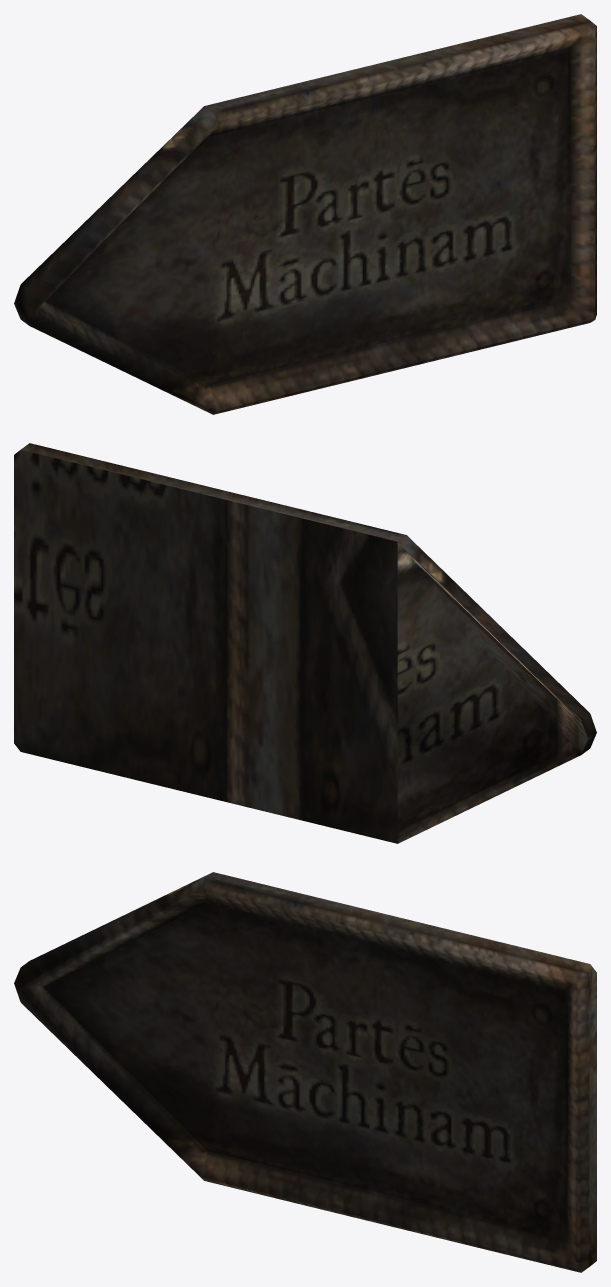
The model's file is sign_machine_parts_left.dae.
3 views of the same model, one above another, from view 1: azimuth 30°, elevation 25°; view 2: azimuth 150°, elevation 25°; view 3: azimuth 330°, elevation 25° (orthographic).
Parts seen in each view (by area): view 1: Box02; view 2: Box02; view 3: Box02.
Part boxes in pixels (x1,y1,x2,y2): Box02: (14,14,596,414); Box02: (14,443,596,843); Box02: (14,872,596,1272).
Bounding box in the file's own units: 0.6037 × 0.0235 × 0.3038.
